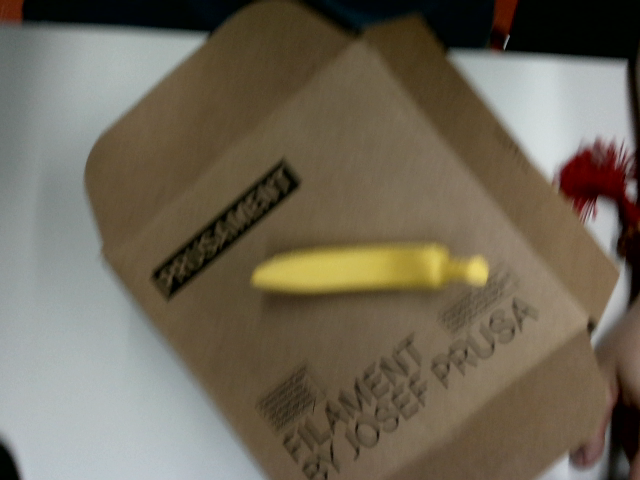banana: (250, 239, 489, 296)
